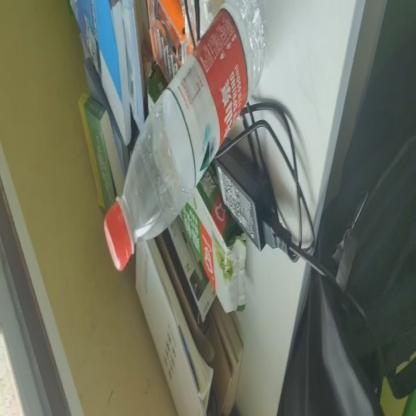Glass Bottle: (102, 0, 266, 272)
